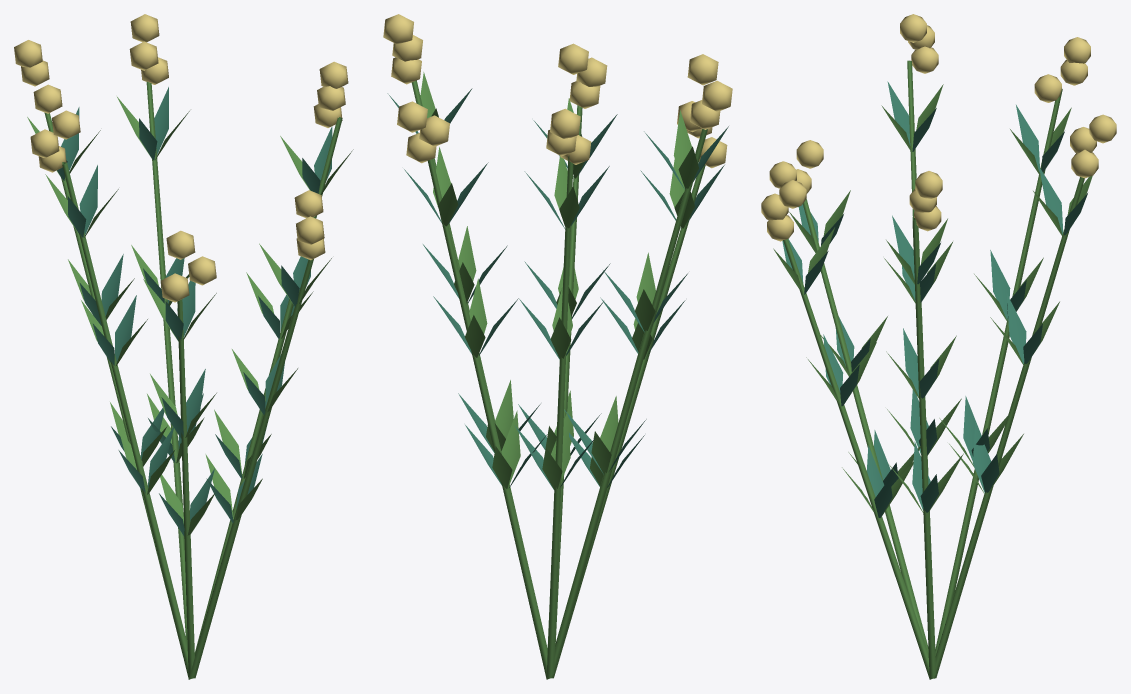
File: madder.glb
3 views of the same model, side by side, from view 1: azimuth 30°, elevation 25°; view 2: azimuth 150°, elevation 25°; view 3: azimuth 270°, elevation 25° (orthographic). The views are drawn at different scales.
Visible parts, largest first — view 1: madder; view 2: madder; view 3: madder.
Part boxes in pixels (box(x1,y1,x2,y2)): madder: box(14, 14, 353, 679); madder: box(383, 14, 732, 679); madder: box(761, 14, 1116, 679).
Size of what is drawn, in the model's own units: 0.3835 by 0.7 by 0.3757.
